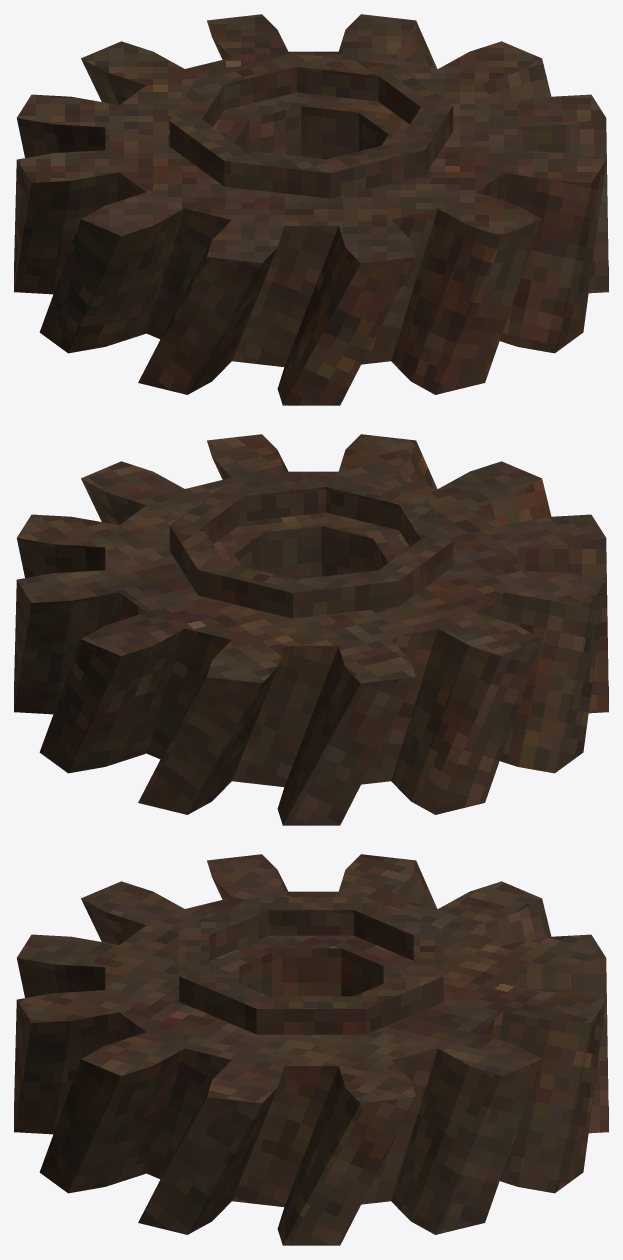
The model's file is gear_mx_5.glb.
3 views of the same model, one above another, from view 1: azimuth 30°, elevation 25°; view 2: azimuth 150°, elevation 25°; view 3: azimuth 270°, elevation 25° (orthographic).
Visible parts, largest first — view 1: gear_mx_5; view 2: gear_mx_5; view 3: gear_mx_5.
Boxes of the visible parts, box(x1,y1,x2,y2) form: gear_mx_5: box(14, 14, 608, 405); gear_mx_5: box(14, 434, 608, 825); gear_mx_5: box(14, 854, 608, 1245).
Size of the model in its own units: 0.1055 by 0.0376 by 0.1055.
Materials: 1 (1 with a texture image).
